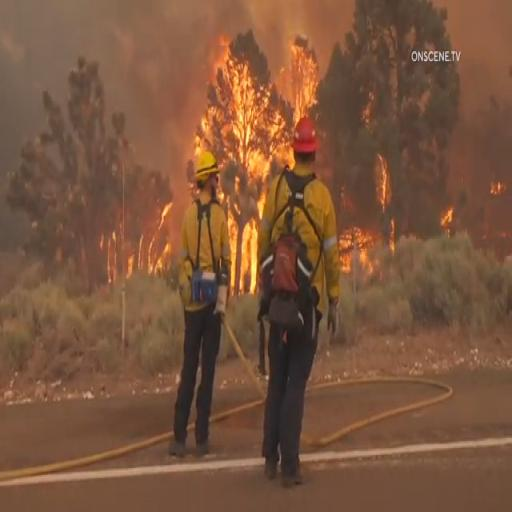fire: (216, 12, 296, 166)
